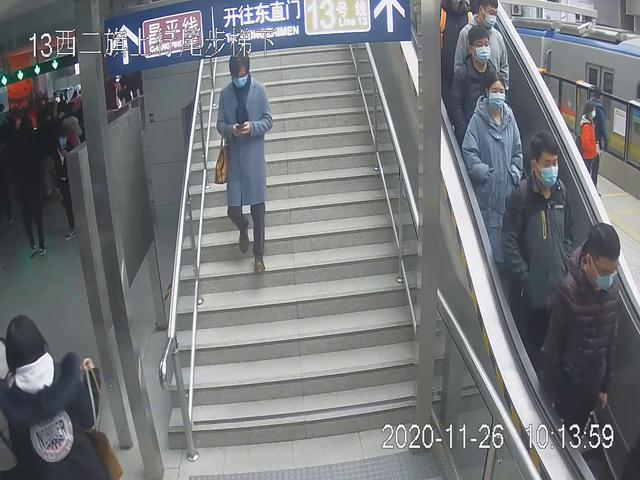person: (538, 216, 628, 475), (1, 313, 113, 480), (501, 131, 573, 368), (458, 72, 527, 288), (215, 47, 272, 276)
